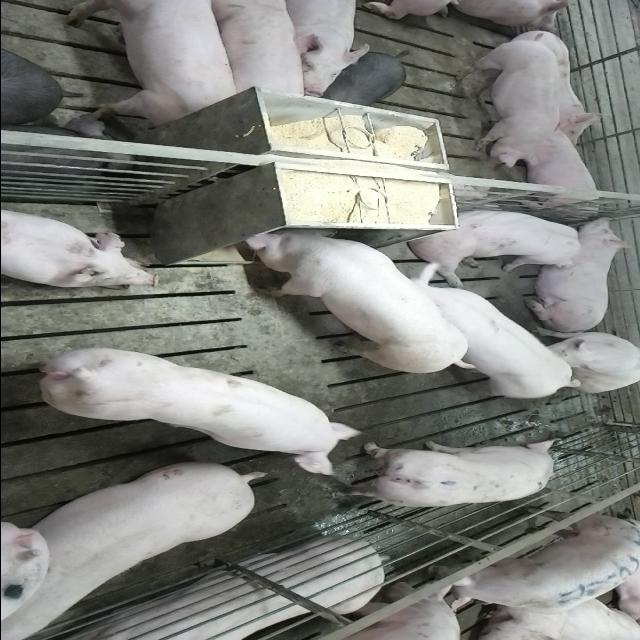Feeding: (240, 218, 470, 370)
Sitting: (406, 204, 582, 276), (524, 330, 638, 393)
Standing: (6, 458, 266, 635), (26, 339, 367, 472), (381, 266, 579, 401), (60, 2, 244, 126), (436, 517, 640, 617), (334, 438, 558, 510), (453, 29, 559, 168), (206, 3, 310, 107), (270, 0, 364, 99)
Sternal_lying: (61, 539, 463, 640), (0, 204, 160, 288), (524, 218, 636, 326), (508, 129, 606, 213)
